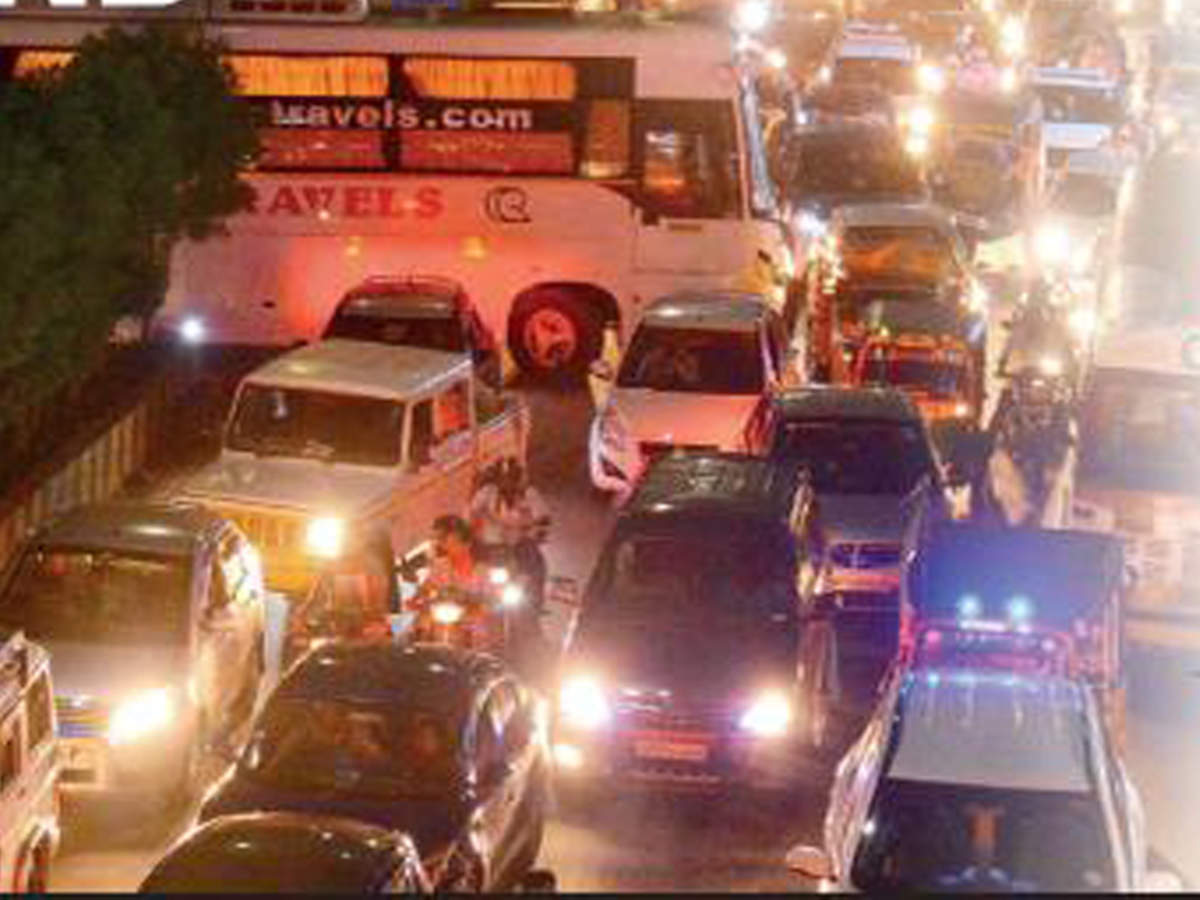bike: (457, 464, 554, 639), (998, 284, 1073, 495), (395, 560, 498, 653)
bus: (14, 21, 763, 336), (1084, 171, 1199, 631)
car: (545, 452, 837, 799), (818, 677, 1161, 900), (190, 336, 546, 543), (28, 501, 259, 793), (243, 641, 553, 835), (736, 378, 955, 560), (586, 287, 789, 468)
rickshaw: (850, 288, 999, 451)
